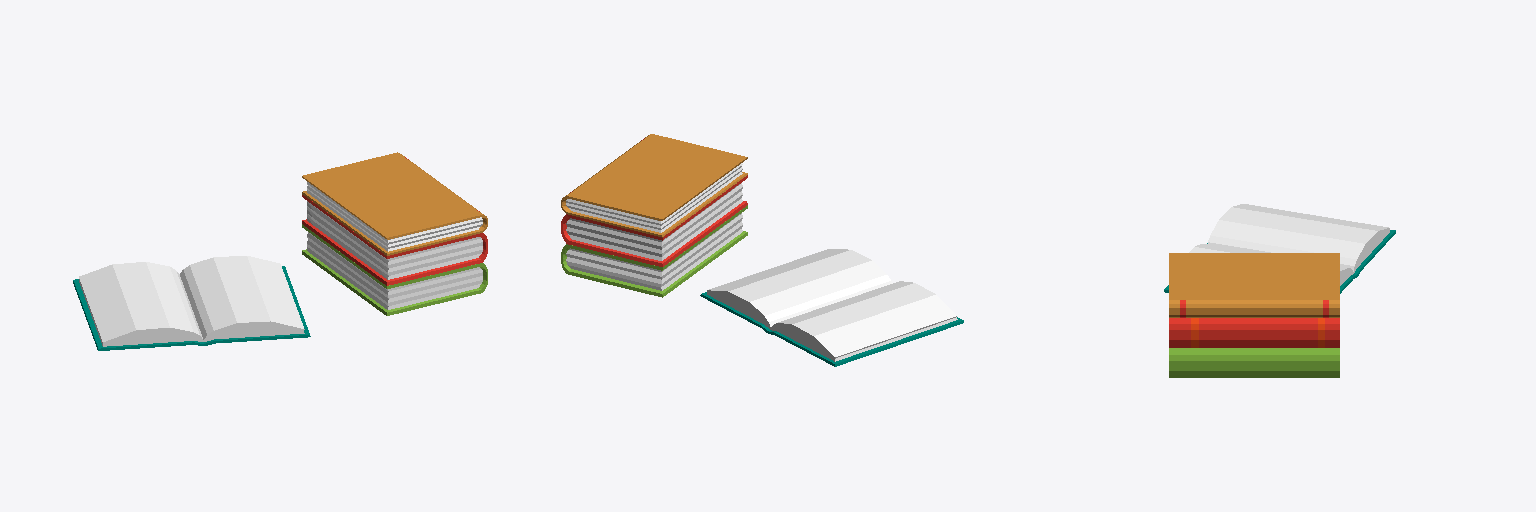
Rendered from books.obj.
3 views of the same model, side by side, from view 1: azimuth 30°, elevation 25°; view 2: azimuth 150°, elevation 25°; view 3: azimuth 270°, elevation 25° (orthographic).
Visible parts, largest first — view 1: book3_Cube; view 2: book3_Cube; view 3: book3_Cube.
Boxes of the visible parts, box(x1,y1,x2,y2) form: book3_Cube: box(73, 152, 487, 350); book3_Cube: box(561, 134, 963, 366); book3_Cube: box(1164, 204, 1395, 377).
Bounding box in the file's own units: 3.37 × 0.7263 × 1.91.